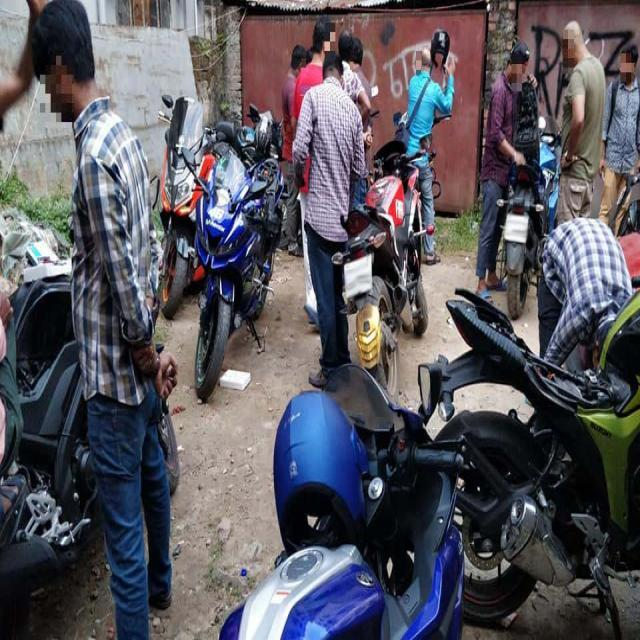Motorbike: (189, 152, 292, 403), (346, 140, 434, 392), (153, 87, 228, 316)
